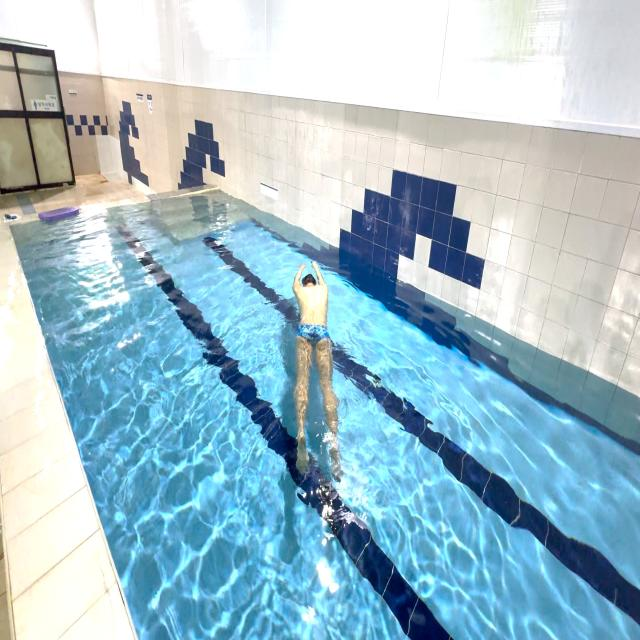Swimming: (279, 251, 349, 502)
